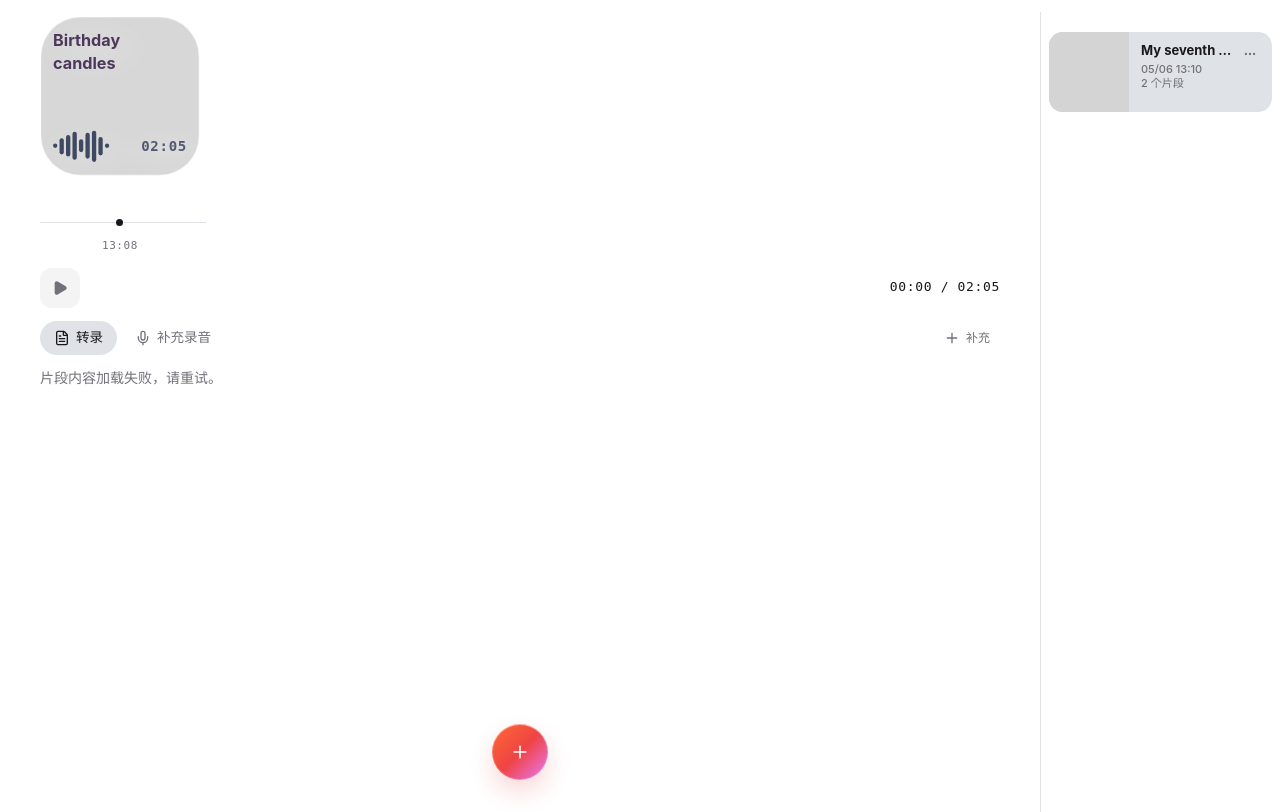
Scenario: LoadedWorkspaceFrame › shows a retryable status when supplement playback fails
Click the tab "补充录音".
click(166, 338)  # box [121, 321, 211, 355]
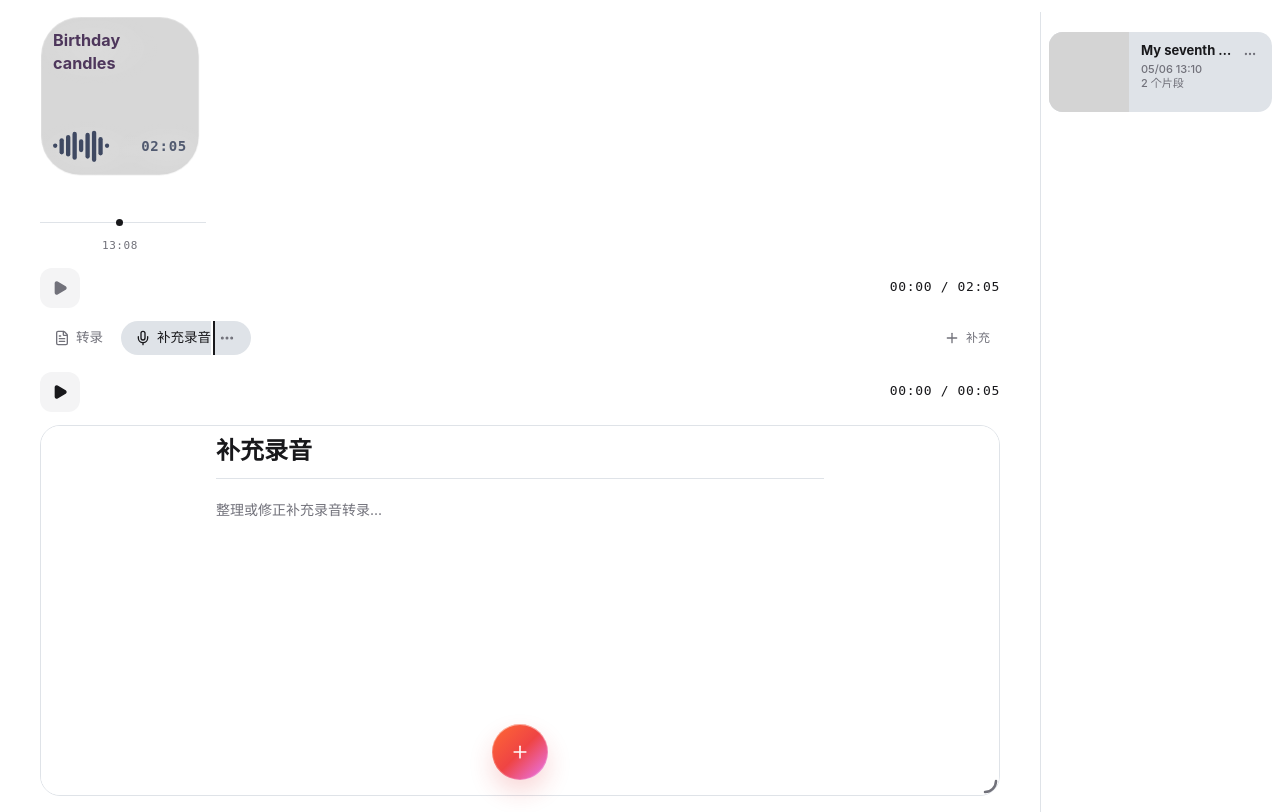
Click the button named "播放补充录音 补充录音".
click(60, 392)  # box [40, 372, 80, 412]
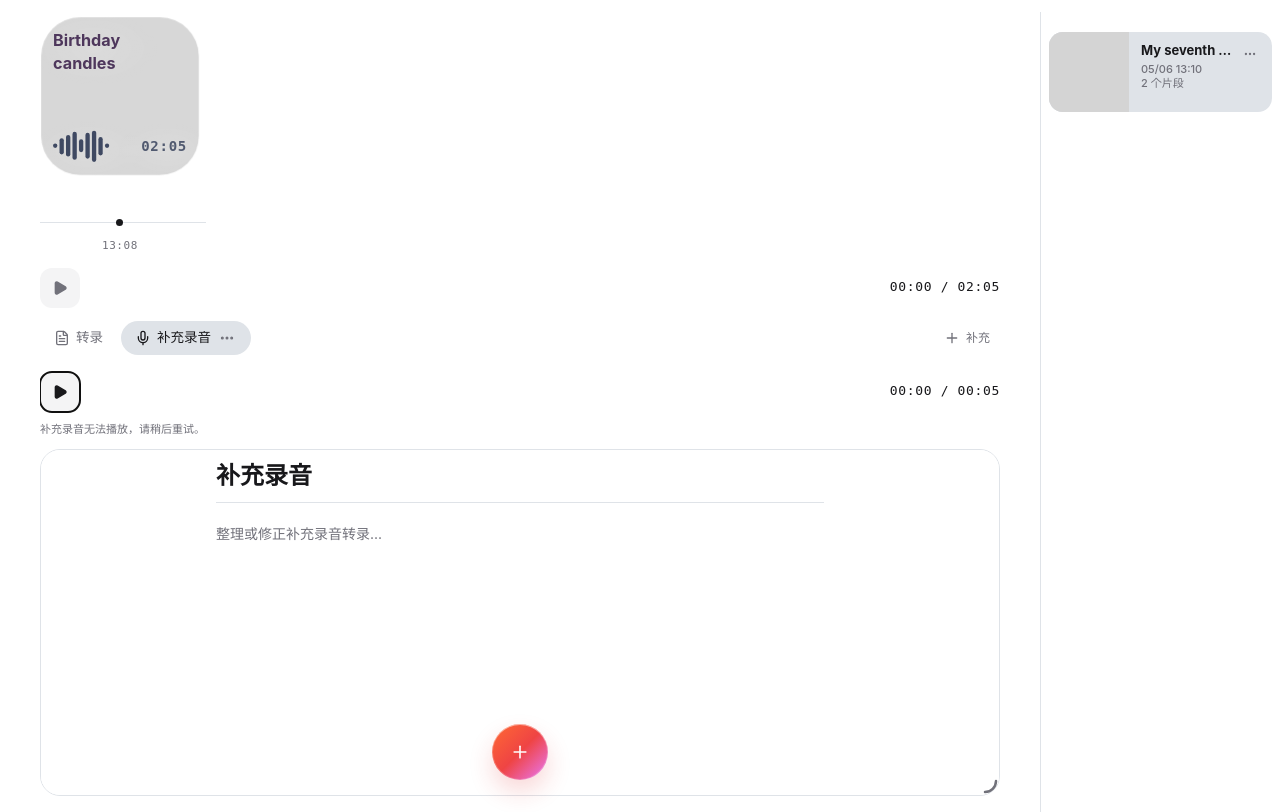
Result: the button named "播放补充录音 补充录音" is shown at [40, 372, 80, 412]
Result: the text "补充录音无法播放，请稍后重试。" is shown at [40, 422, 205, 436]
